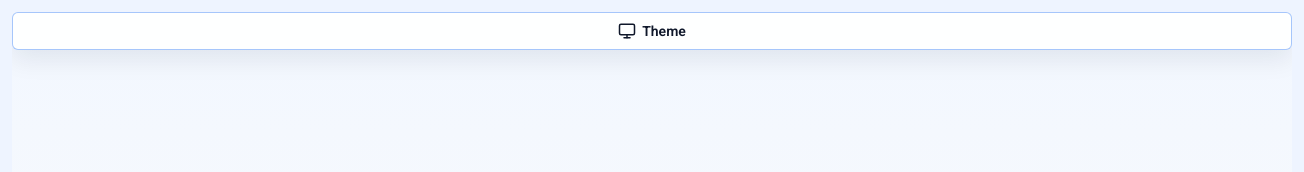
ThemeSwitcher › cycles from null to light on click
Step 1. Click the button with aria-label "Theme:" → (652, 31), box [12, 12, 1292, 50]
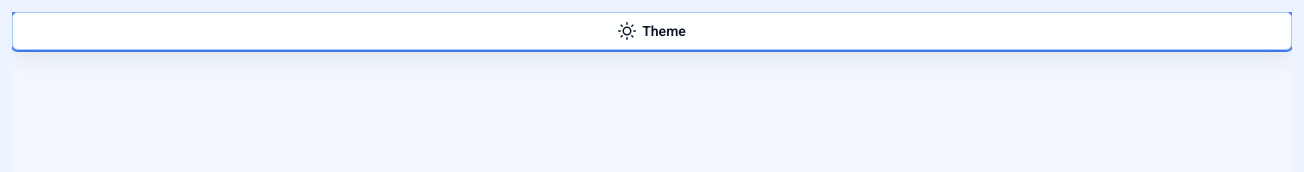
Now the button with aria-label "Theme: Light" is shown, box [12, 12, 1292, 50]
